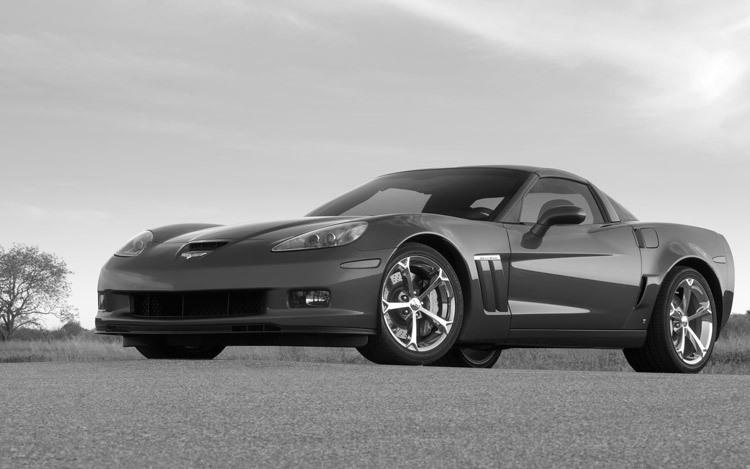car: (94, 163, 736, 377)
